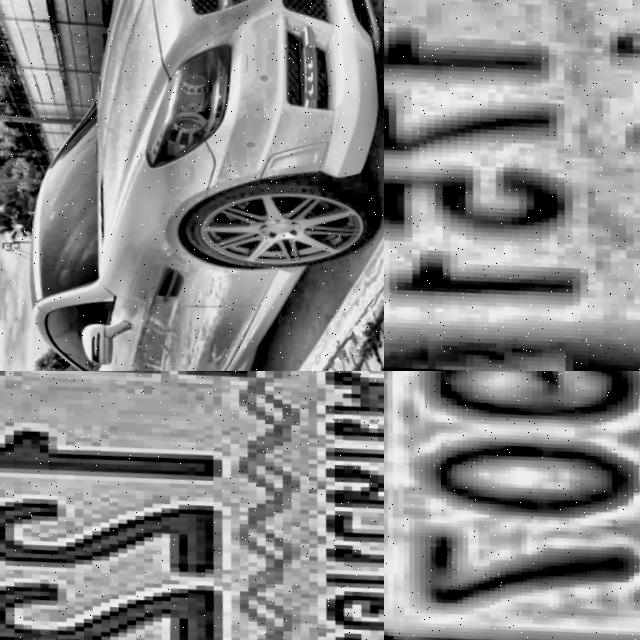license-plate: (0, 371, 384, 640), (384, 0, 640, 371), (384, 371, 640, 640)
